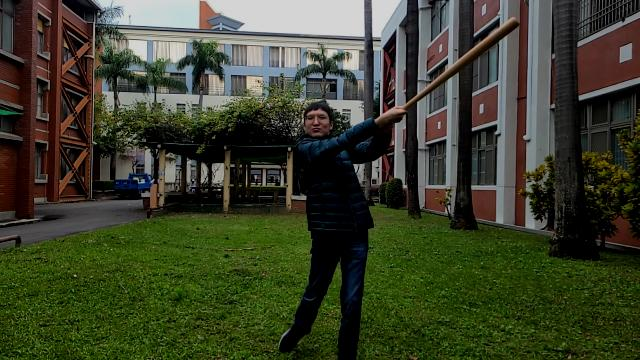bat: (403, 16, 521, 110)
